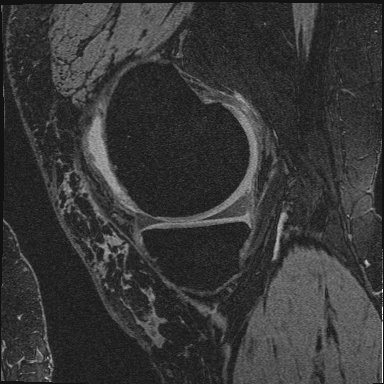effusion: (88, 118, 109, 177)
